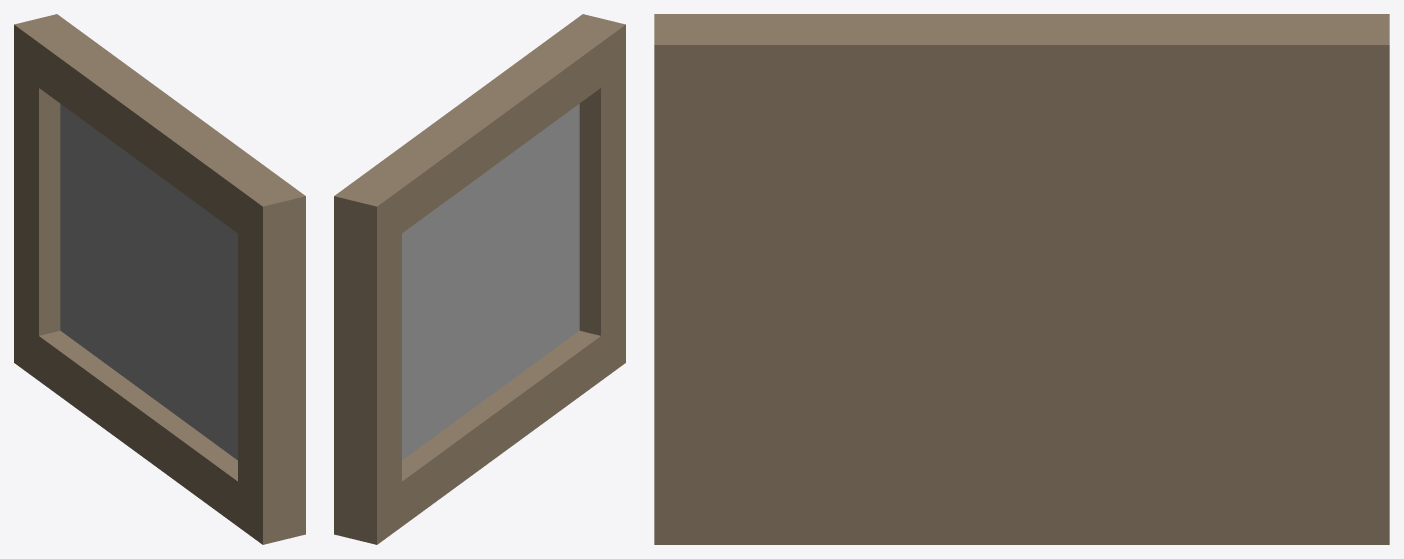
Rendered from PictureFrame_SM.fbx.
3 views of the same model, side by side, from view 1: azimuth 30°, elevation 25°; view 2: azimuth 150°, elevation 25°; view 3: azimuth 270°, elevation 25° (orthographic). The views are drawn at different scales.
Visible parts, largest first — view 1: Tavla_S; view 2: Tavla_S; view 3: Tavla_S.
Boxes of the visible parts, x1,y1,x2,y2 form: Tavla_S: (14,14,305,544); Tavla_S: (334,14,625,544); Tavla_S: (654,14,1389,544).
Bounding box in the file's own units: 2 × 15 × 20.
